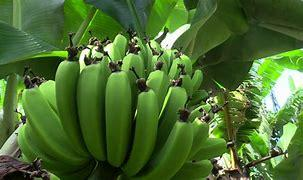banana: (17, 25, 238, 174), (11, 50, 188, 180), (19, 67, 83, 175), (73, 56, 106, 159), (122, 78, 157, 170), (101, 64, 129, 167)
